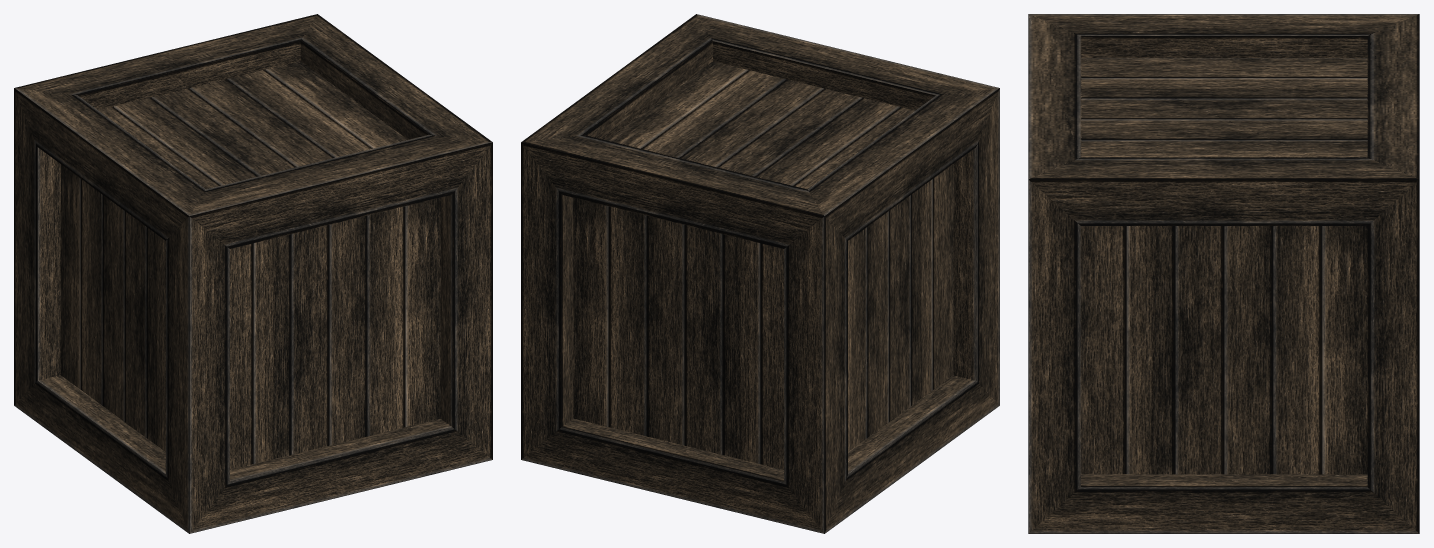
File: wood_box.fbx
The picture shows the model from 3 angles, left to right: view 1: azimuth 30°, elevation 25°; view 2: azimuth 150°, elevation 25°; view 3: azimuth 270°, elevation 25°; orthographic projection. The views are drawn at different scales.
Visible parts, largest first — view 1: wood_box; view 2: wood_box; view 3: wood_box.
Part boxes in pixels (box(x1,y1,x2,y2)): wood_box: box(14, 14, 492, 533); wood_box: box(521, 14, 999, 533); wood_box: box(1028, 14, 1419, 533).
Size of the model in its own units: 100 by 100 by 100.
1 material, 1 textured.
